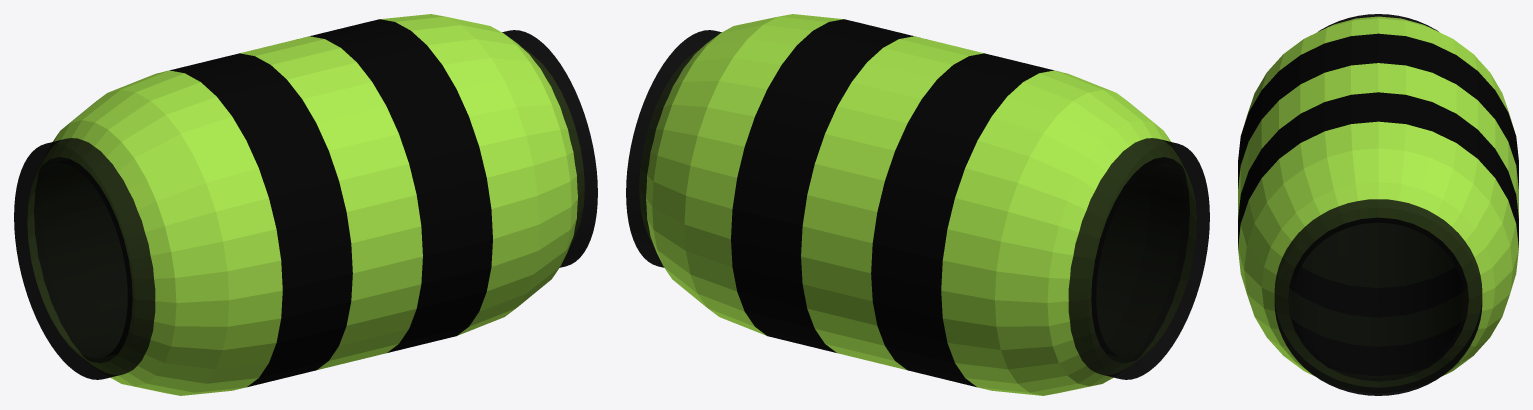
Rendered from resistor.fbx.
The picture shows the model from 3 angles, left to right: view 1: azimuth 30°, elevation 25°; view 2: azimuth 150°, elevation 25°; view 3: azimuth 270°, elevation 25°; orthographic projection. The views are drawn at different scales.
Parts seen in each view (by area): view 1: Cylinder.002, Cylinder.001; view 2: Cylinder.002, Cylinder.001; view 3: Cylinder.002, Cylinder.001.
Part boxes in pixels (x1,y1,x2,y2): Cylinder.002: (28, 14, 583, 395); Cylinder.001: (14, 30, 597, 379); Cylinder.002: (640, 14, 1195, 395); Cylinder.001: (626, 30, 1209, 379); Cylinder.002: (1238, 16, 1518, 386); Cylinder.001: (1274, 14, 1482, 395).
Size of the model in its own units: 441 by 270 by 270.
